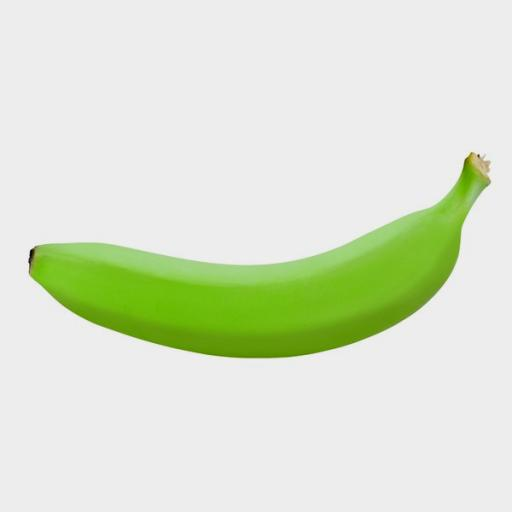banana-unripe: (0, 130, 507, 419)
